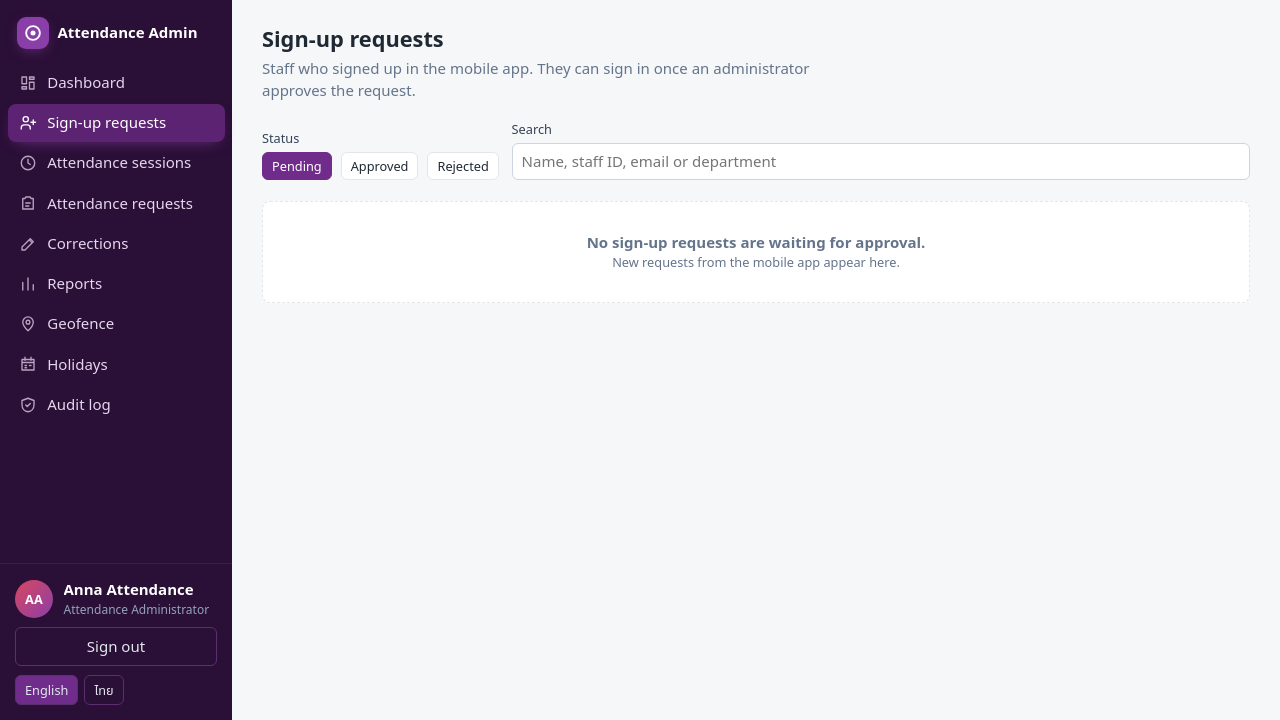
Sign-up requests › shows reviewer, time and reason on the Rejected tab
This screenshot has width=1280, height=720.
Check: the text "No sign-up requests are waiting for approval." is shown, box x1=587 y1=232 x2=925 y2=252
Click the tab "Rejected": (463, 166) x1=428 y1=152 x2=499 y2=180
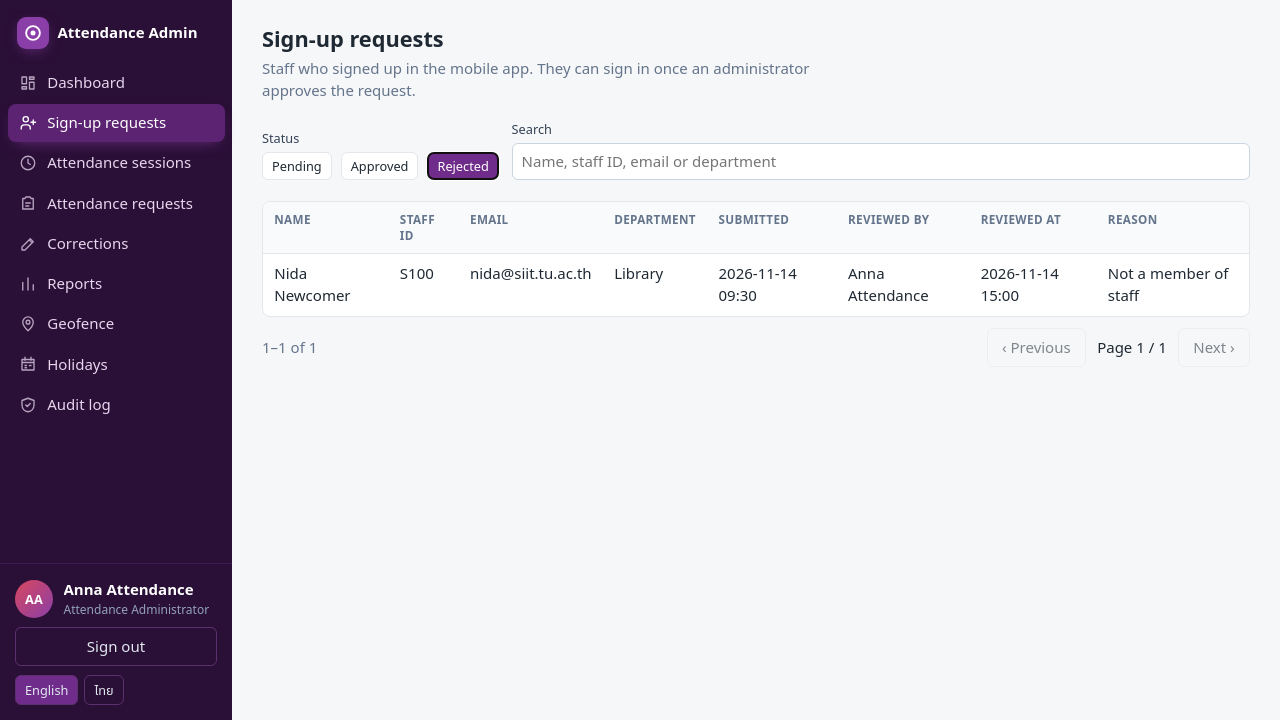
Check: the text "Anna Attendance" is shown, box x1=837 y1=254 x2=969 y2=316
Check: the text "2026-11-14 15:00" is shown, box x1=969 y1=254 x2=1097 y2=316
Check: the text "Not a member of staff" is shown, box x1=1097 y1=254 x2=1249 y2=316
